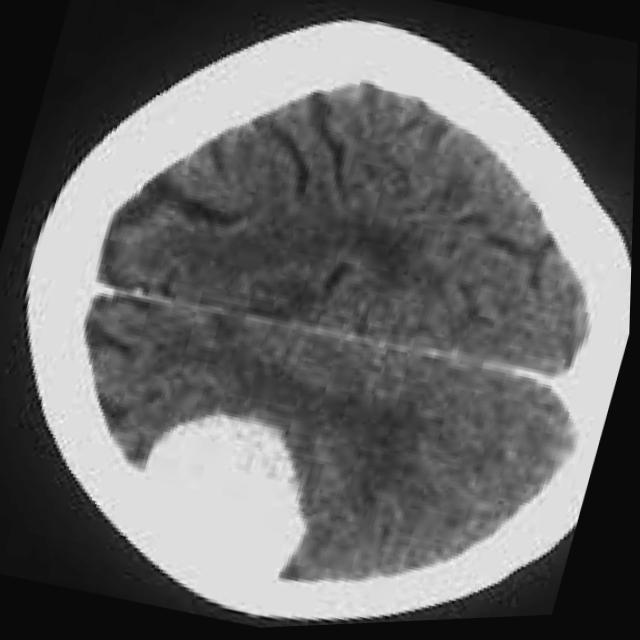Meningioma: (112, 389, 336, 600)
